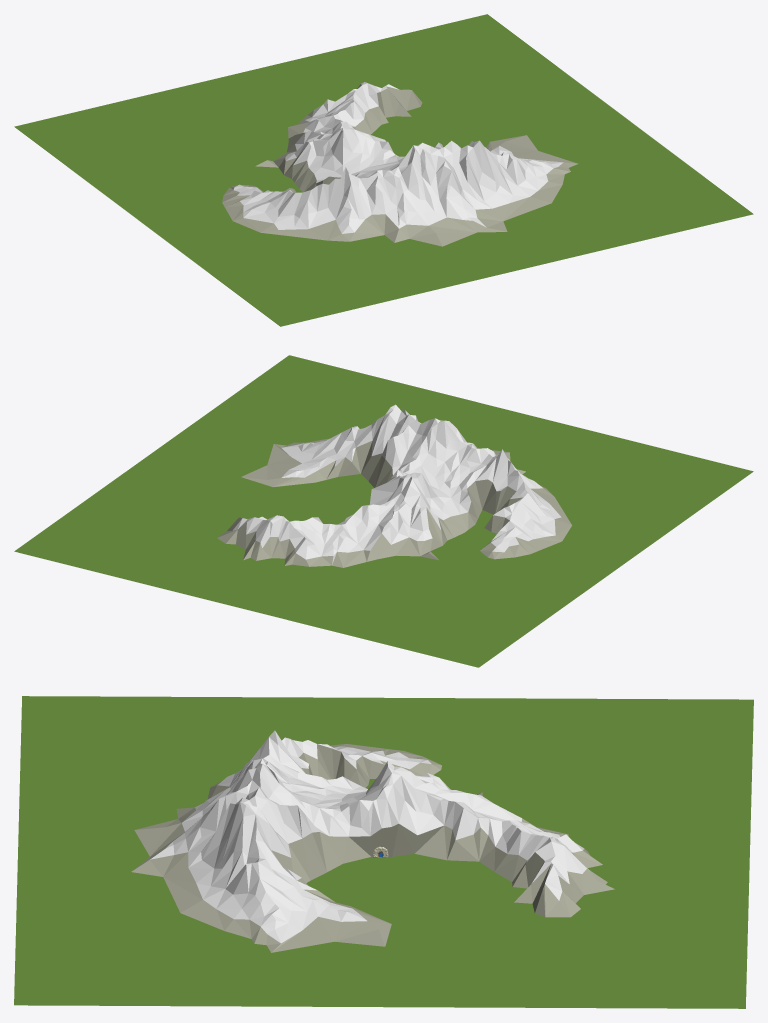
File: map_cinematic_full.glb
The picture shows the model from 3 angles, top to bottom: view 1: azimuth 30°, elevation 25°; view 2: azimuth 150°, elevation 25°; view 3: azimuth 270°, elevation 25°; orthographic projection. The views are drawn at different scales.
Parts seen in each view (by area): view 1: landscape; view 2: landscape; view 3: landscape.
Boxes of the visible parts, x1,y1,x2,y2 form: landscape: (14, 14, 753, 326); landscape: (14, 355, 753, 667); landscape: (14, 696, 753, 1008).
Size of the model in its own units: 378 by 47.79 by 378.
